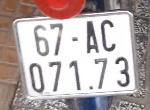0: (29, 62, 45, 93)
1: (68, 59, 83, 91)
3: (114, 55, 132, 89)
6: (31, 24, 50, 57)
7: (49, 22, 65, 56), (48, 60, 62, 93), (94, 57, 108, 90)
A: (85, 19, 100, 56)
C: (101, 18, 117, 52)
